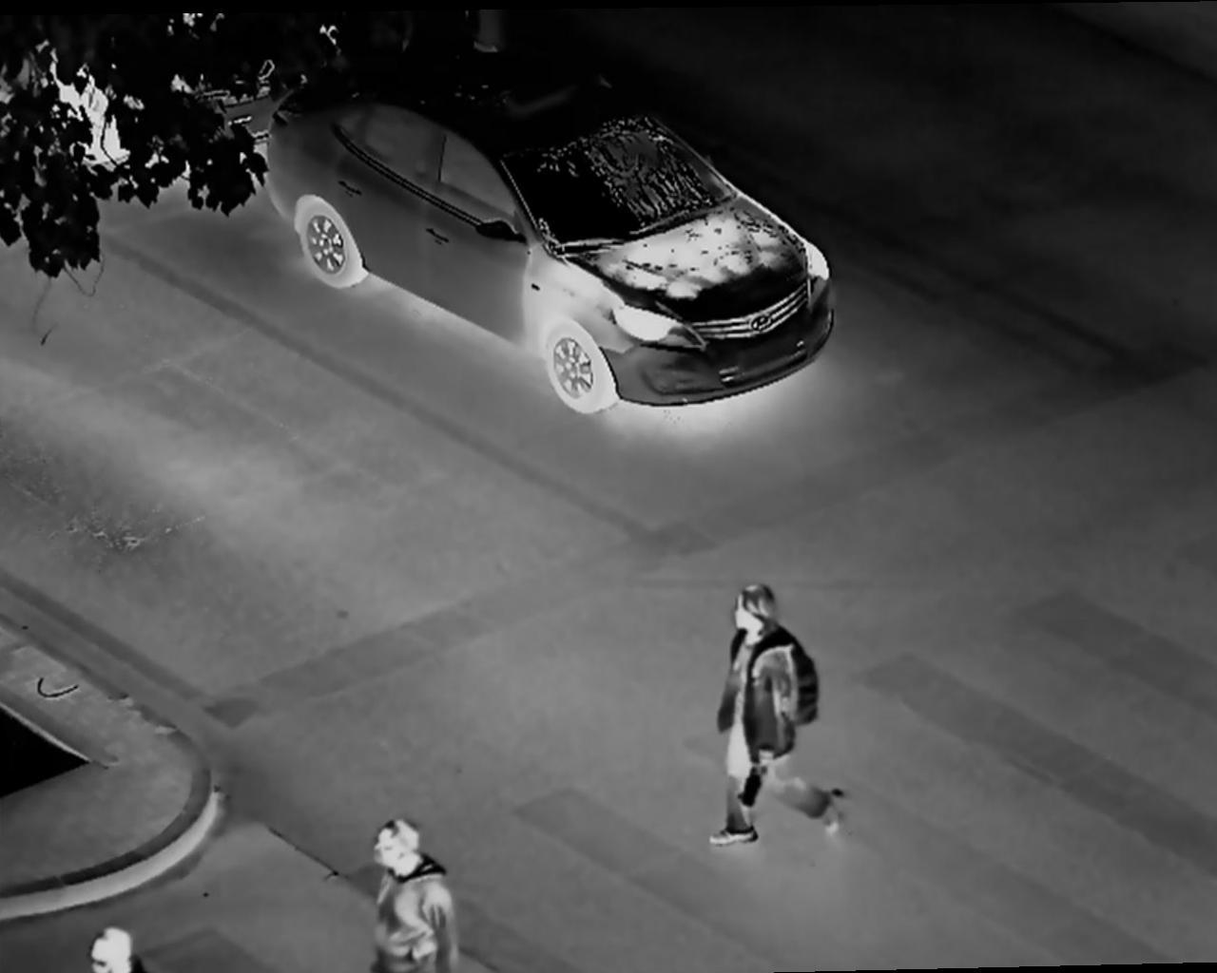person: (707, 583, 844, 852), (368, 809, 463, 973), (79, 914, 139, 973)
